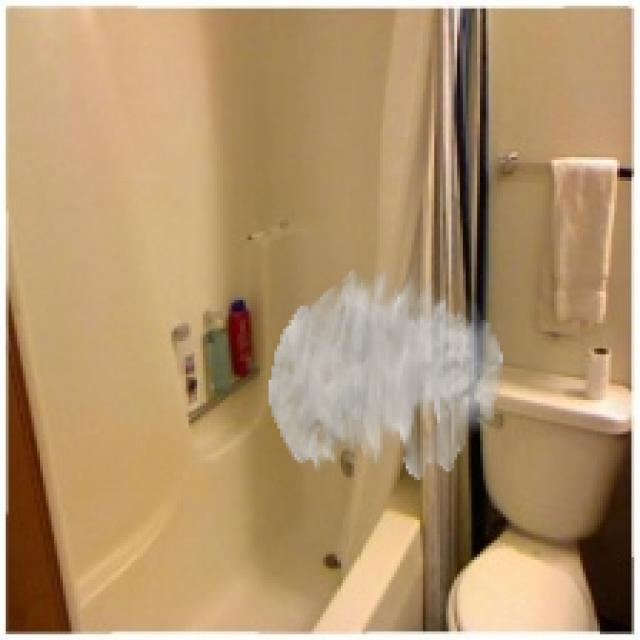Smoke: (268, 266, 503, 480)
